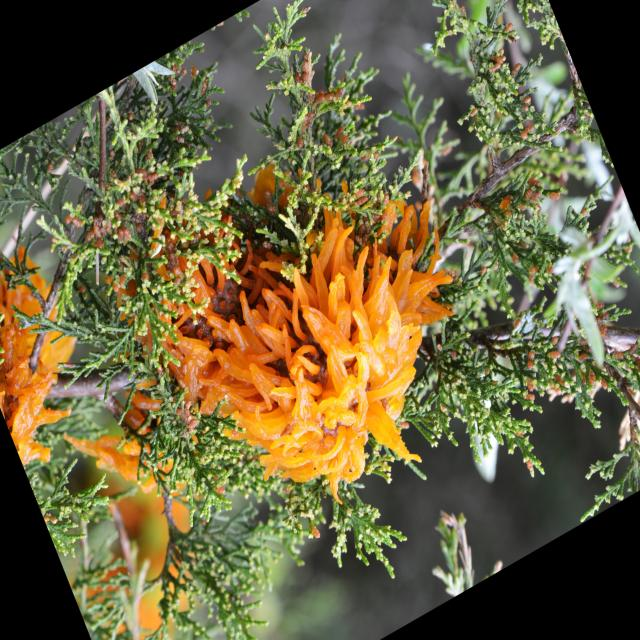Gymnosporangium_Rusts: (158, 184, 444, 488)
